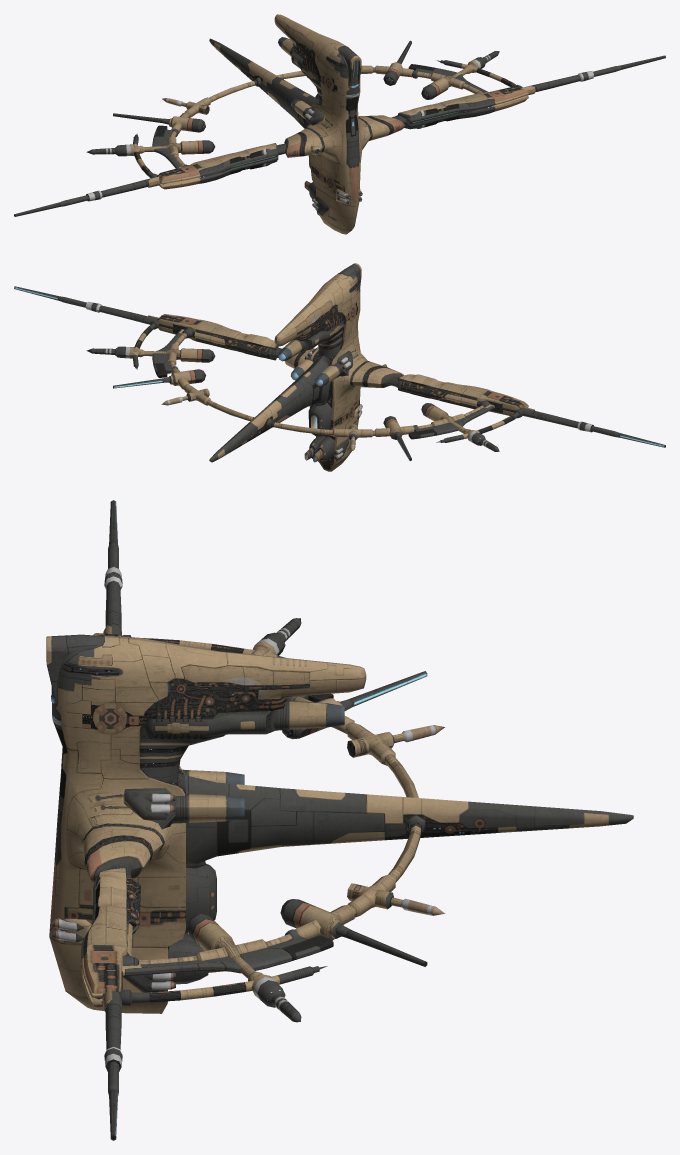
File: 77114_lite.glb
The picture shows the model from 3 angles, top to bottom: view 1: azimuth 30°, elevation 25°; view 2: azimuth 150°, elevation 25°; view 3: azimuth 270°, elevation 25°; orthographic projection. The views are drawn at different scales.
Visible parts, largest first — view 1: ship; view 2: ship; view 3: ship.
Part boxes in pixels (x1,y1,x2,y2): ship: (14, 14, 665, 234); ship: (14, 263, 665, 471); ship: (46, 500, 633, 1140).
Size of the model in its own units: 1.55 by 0.4284 by 0.6063.
1 material, 1 textured.
